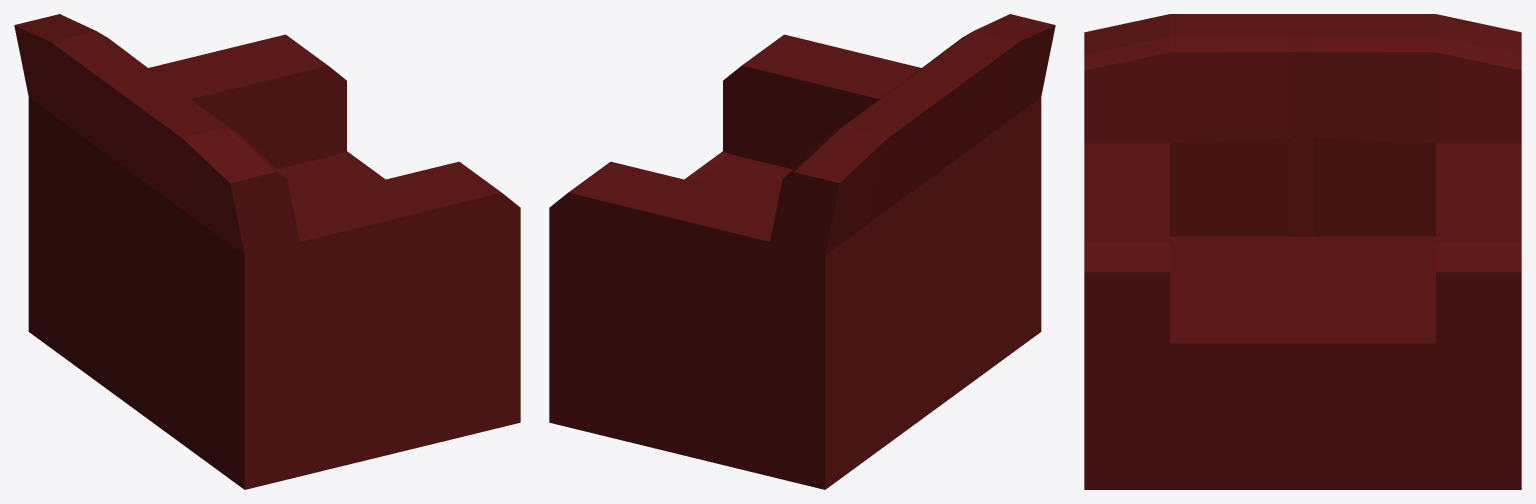
File: CouchSmall.fbx
3 views of the same model, side by side, from view 1: azimuth 30°, elevation 25°; view 2: azimuth 150°, elevation 25°; view 3: azimuth 270°, elevation 25° (orthographic).
Visible parts, largest first — view 1: Cube.003; view 2: Cube.003; view 3: Cube.003.
Part boxes in pixels (bbox=[...]): Cube.003: bbox=[14, 14, 520, 489]; Cube.003: bbox=[549, 14, 1055, 489]; Cube.003: bbox=[1084, 14, 1521, 489].
Bounding box in the file's own units: 107 × 113 × 136.
